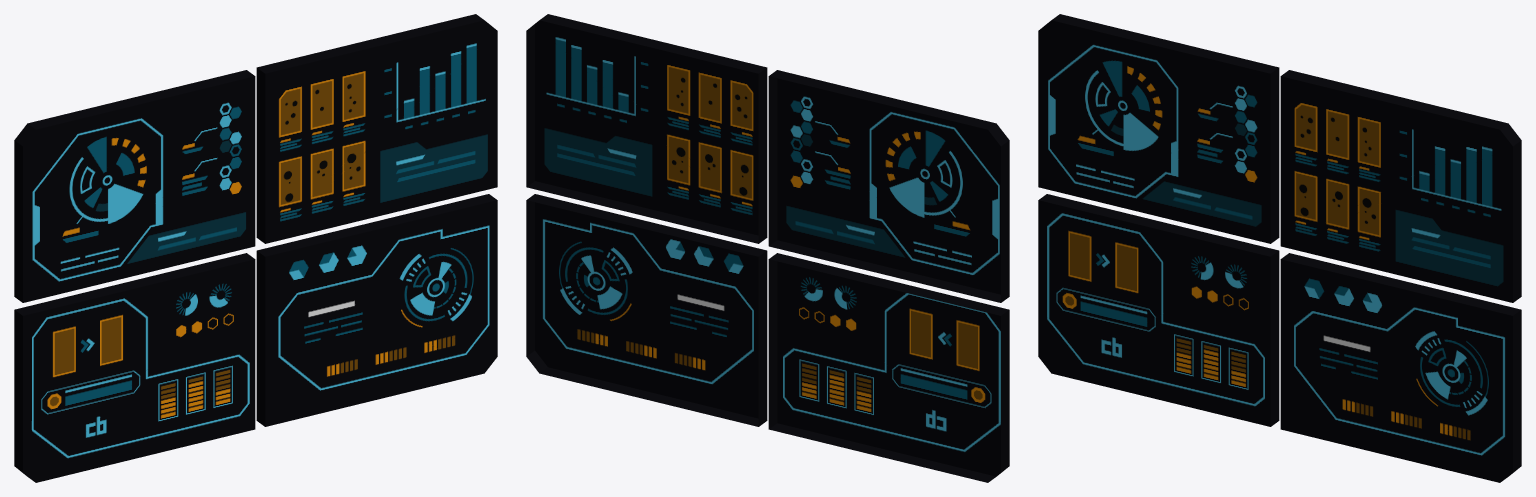
Rendered from SM_Screens_2.fbx.
3 views of the same model, side by side, from view 1: azimuth 30°, elevation 25°; view 2: azimuth 150°, elevation 25°; view 3: azimuth 330°, elevation 25° (orthographic).
Visible parts, largest first — view 1: SM_Screens_2; view 2: SM_Screens_2; view 3: SM_Screens_2.
Boxes of the visible parts, x1,y1,x2,y2 form: SM_Screens_2: (14, 14, 497, 482); SM_Screens_2: (526, 14, 1009, 482); SM_Screens_2: (1038, 14, 1521, 482).
Size of the model in its own units: 173 by 123 by 5.43.
